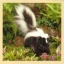skunk: (15, 5, 50, 54)
